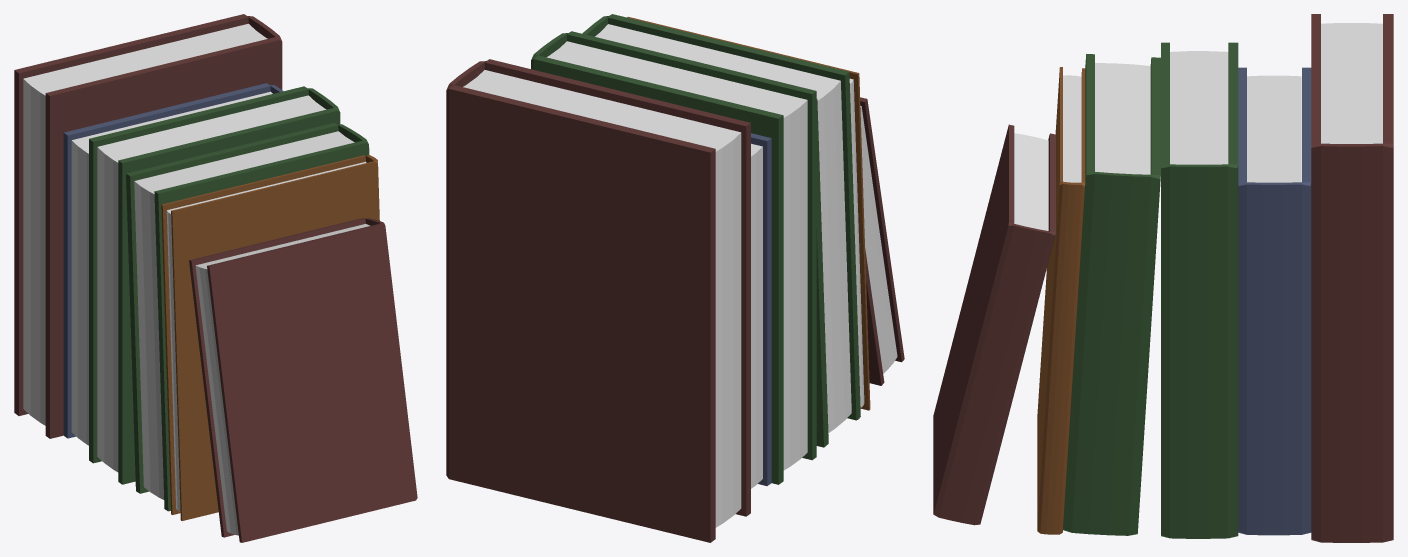
Rendered from VJ_R_PackLlibres_04.fbx.
3 views of the same model, side by side, from view 1: azimuth 30°, elevation 25°; view 2: azimuth 150°, elevation 25°; view 3: azimuth 270°, elevation 25° (orthographic). The views are drawn at different scales.
Visible parts, largest first — view 1: R_PackLlibres_04; view 2: R_PackLlibres_04; view 3: R_PackLlibres_04.
Boxes of the visible parts, x1,y1,x2,y2 form: R_PackLlibres_04: (14, 14, 417, 542); R_PackLlibres_04: (446, 14, 904, 542); R_PackLlibres_04: (933, 14, 1393, 542).
Bounding box in the file's own units: 3.79 × 5.29 × 5.57.
